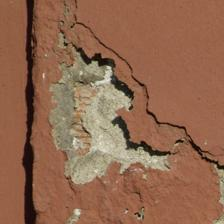Crack: (72, 0, 222, 146), (68, 0, 154, 81)
